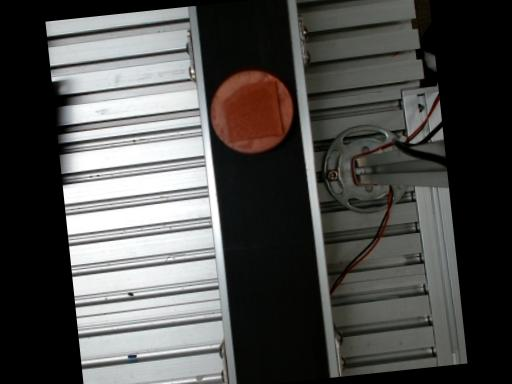Brown_Waper: (210, 69, 292, 152)
Not_Square: (222, 77, 285, 141)
